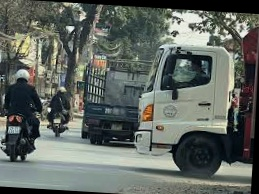Bien-so: (8, 125, 20, 135), (52, 118, 61, 124)
